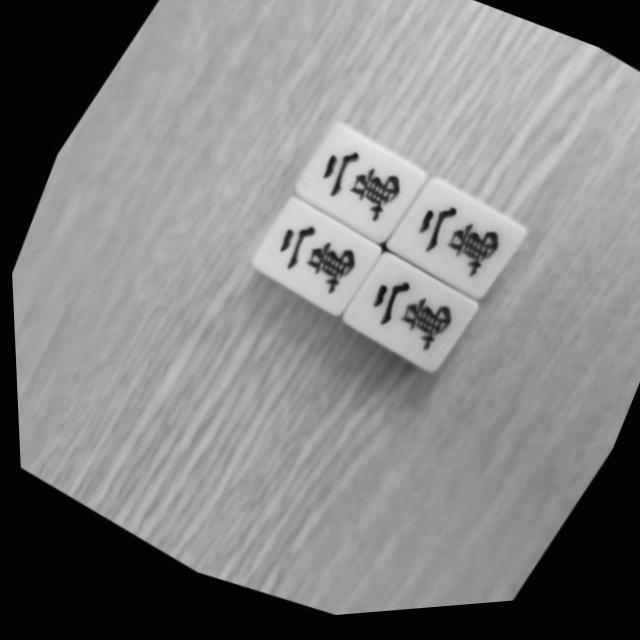sc2: (374, 176, 526, 320), (238, 191, 383, 332), (284, 119, 429, 258), (332, 253, 475, 390)
